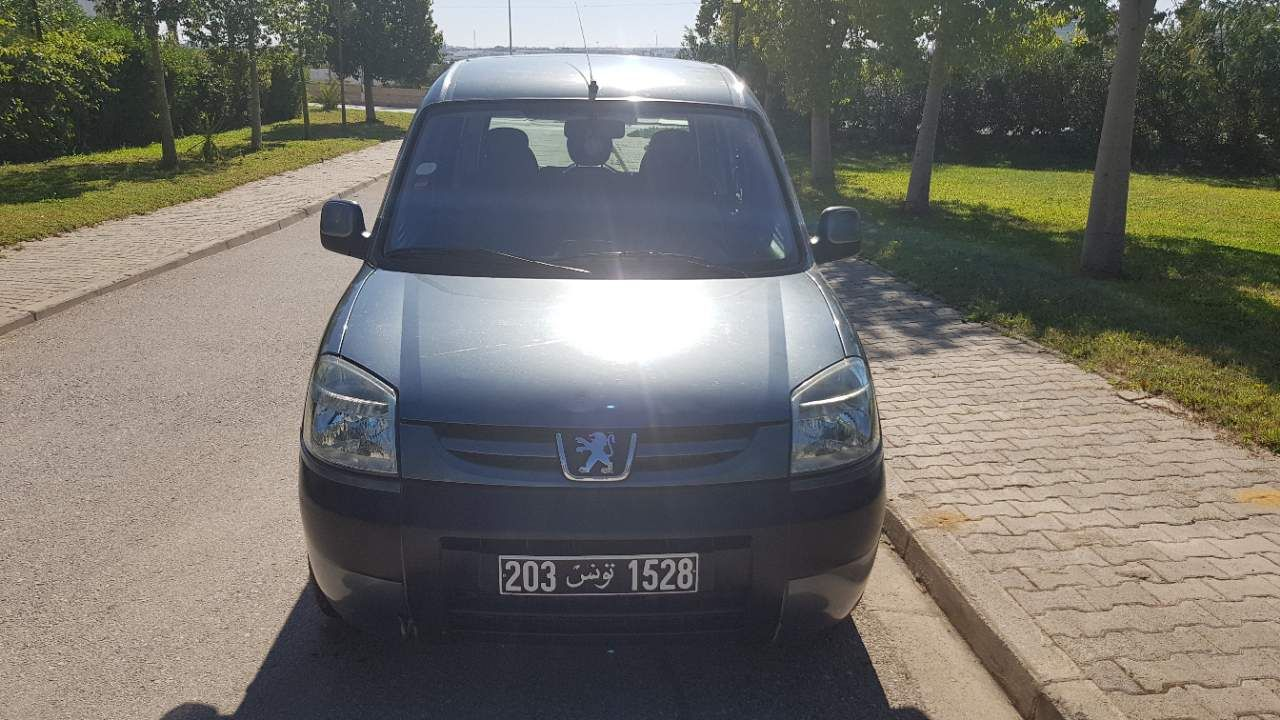LP: (495, 550, 704, 597)
